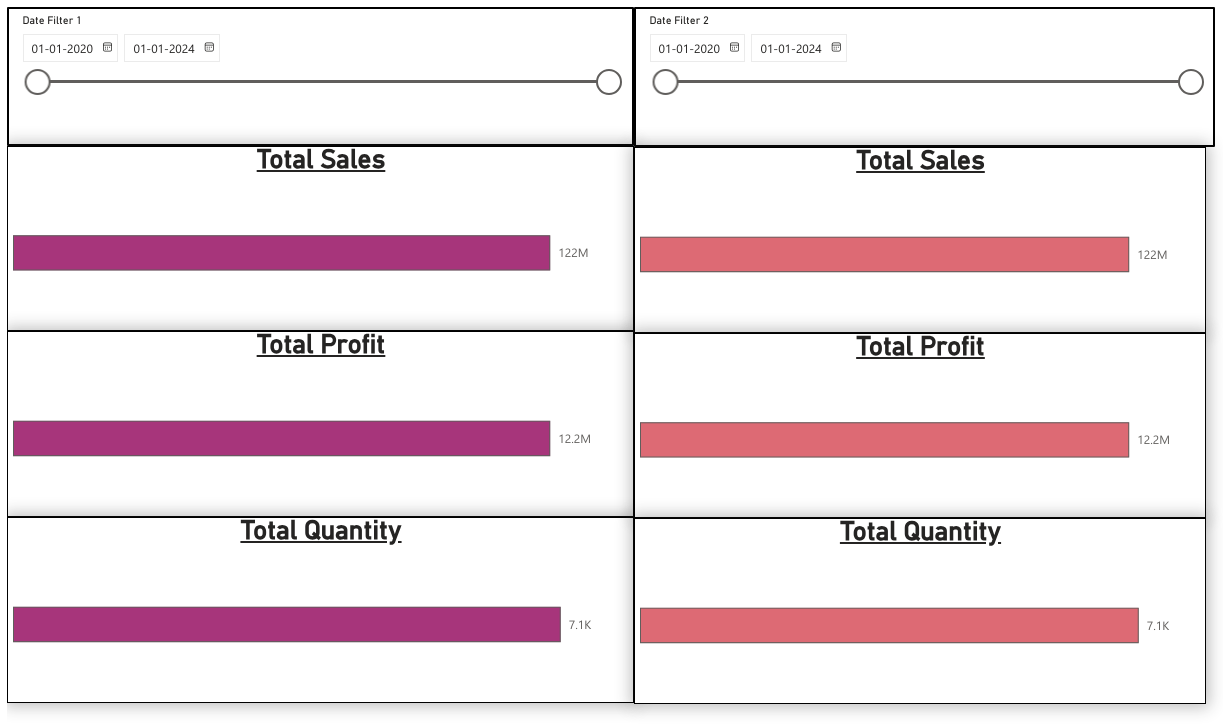

The dashboard page shown, as its layout file describes it:
{"tool":"powerbi","page":{"name":"Edit Interaction","canvas":[1280,720],"ordinal":3},"visuals":[{"type":"slicer","fields":{"Values":["Fact Table.Date (dd/mm/yyyy)"]},"box":[0,67.3,664,139.4],"z":0},{"type":"slicer","fields":{"Values":["Fact Table.Date (dd/mm/yyyy)"]},"box":[664,67.3,616.3,139.4],"z":1000},{"type":"barChart","title":"Total Sales","fields":{"Y":["Sum(Fact Table.Net Sales)"]},"box":[0,206.7,664,170],"z":2000},{"type":"barChart","title":"Total Profit ","fields":{"Y":["Sum(Fact Table.Profit)"]},"box":[0,376.6,664,174.9],"z":3000},{"type":"barChart","title":"Total Quantity","fields":{"Y":["Sum(Fact Table.Units Sold)"]},"box":[0,551.5,664,168.8],"z":4000},{"type":"barChart","title":"Total Sales","fields":{"Y":["Sum(Fact Table.Net Sales)"]},"box":[664,206.7,616.3,170],"z":5000},{"type":"barChart","title":"Total Profit ","fields":{"Y":["Sum(Fact Table.Profit)"]},"box":[664,376.6,616.3,174.9],"z":6000},{"type":"barChart","title":"Total Quantity","fields":{"Y":["Sum(Fact Table.Units Sold)"]},"box":[664,551.5,616.3,168.8],"z":7000},{"type":"shape","box":[0,0,1280.3,67.3],"z":8000}]}

Visuals, with their boxes on the page's 1280x720 design canvas (x1, y1, x2, y2). These are canvas units, not pixel positions in the 1223x726 screenshot, which may show the page scaled, cropped or inside an application window:
slicer - Fact Table.Date (dd/mm/yyyy): 0/67/664/207
slicer - Fact Table.Date (dd/mm/yyyy): 664/67/1280/207
"Total Sales" barChart: 0/207/664/377
"Total Profit " barChart: 0/377/664/552
"Total Quantity" barChart: 0/552/664/720
"Total Sales" barChart: 664/207/1280/377
"Total Profit " barChart: 664/377/1280/552
"Total Quantity" barChart: 664/552/1280/720
shape: 0/0/1280/67
